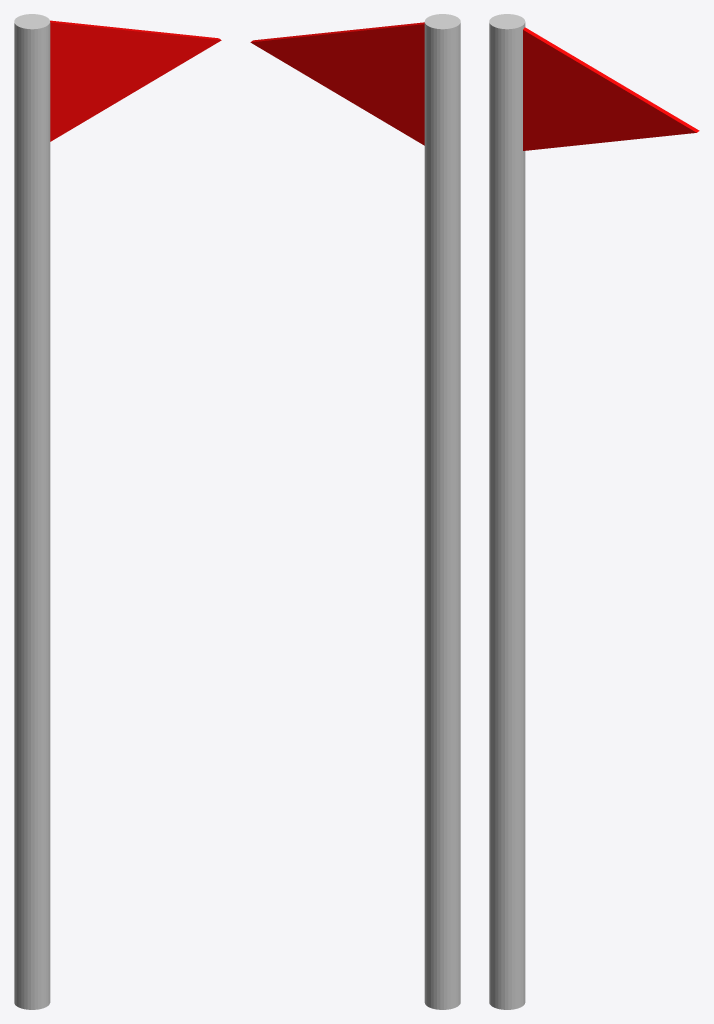
The model's file is flag.dae.
The picture shows the model from 3 angles, left to right: view 1: azimuth 30°, elevation 25°; view 2: azimuth 150°, elevation 25°; view 3: azimuth 330°, elevation 25°; orthographic projection.
Parts seen in each view (by area): view 1: Cylinder, flag; view 2: Cylinder, flag; view 3: Cylinder, flag.
Boxes of the visible parts, box(x1,y1,x2,y2) form: Cylinder: box(14, 14, 50, 1009); flag: box(50, 20, 221, 141); Cylinder: box(424, 14, 460, 1009); flag: box(250, 22, 424, 145); Cylinder: box(489, 14, 525, 1009); flag: box(523, 27, 699, 150).
Size of what is drawn, in the model's own units: 1.31 by 0.2 by 6.
